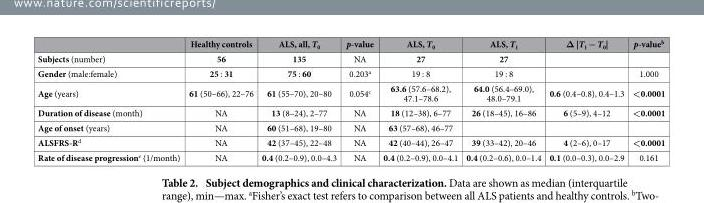table: (37, 37, 664, 163)
table column: (37, 37, 183, 163), (256, 37, 340, 163), (377, 37, 461, 163), (461, 37, 544, 163), (544, 37, 627, 163), (183, 37, 256, 163), (340, 37, 377, 163), (627, 37, 664, 163)
table column header: (37, 37, 664, 51)
table row: (37, 80, 664, 104), (37, 65, 664, 80), (37, 104, 664, 119), (37, 119, 664, 134), (37, 134, 664, 149), (37, 37, 664, 51), (37, 51, 664, 65), (37, 149, 664, 163)
